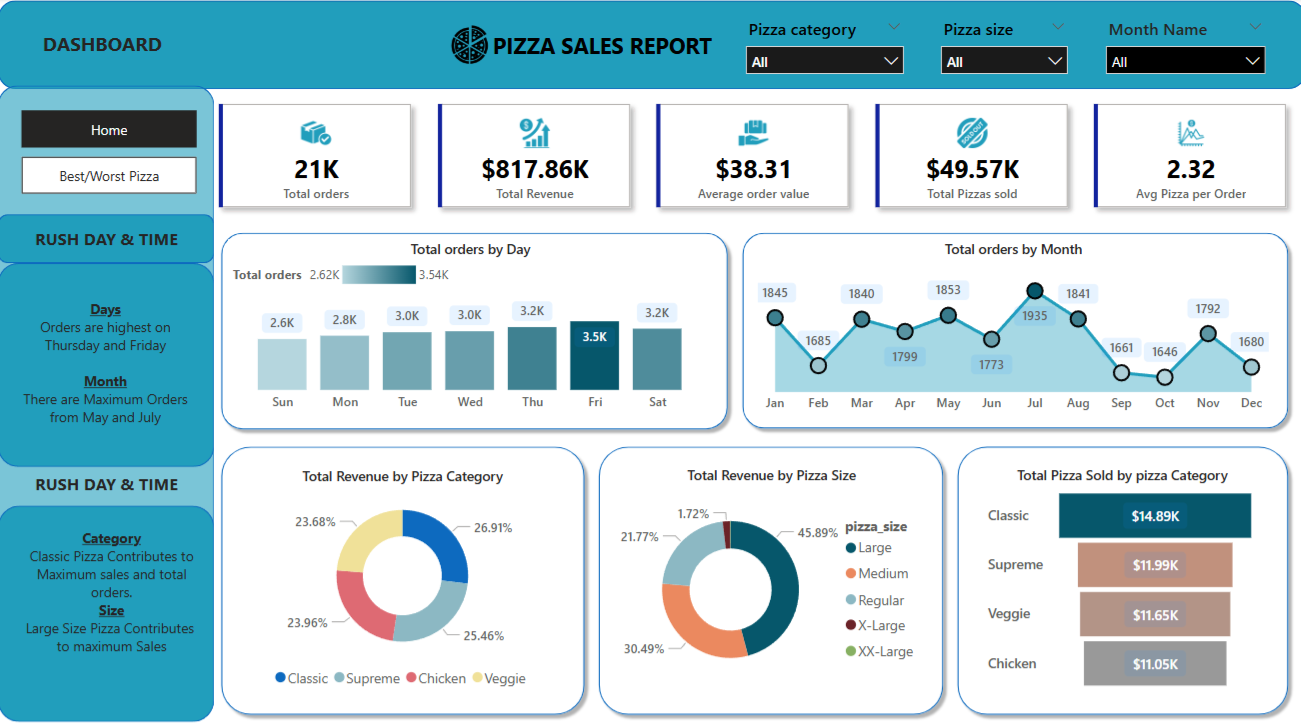

Layout of this report page (visuals, bound fields, positions):
{"tool":"powerbi","page":{"name":"Home","canvas":[1280,720],"ordinal":0},"visuals":[{"type":"cardVisual","fields":{"Data":["_Measure table.Total orders","_Measure table.Total Revenue","_Measure table.Average order value","_Measure table.Total Pizzas sold","_Measure table.Avg Pizza per Order"]},"box":[199.3,86.8,1081,135.7],"z":0},{"type":"shape","box":[0,2.9,1279.7,86.6],"z":1000},{"type":"shape","box":[0,85.6,211.6,618.8],"z":2000},{"type":"shape","box":[212.1,222.2,509.3,206.3],"z":3000},{"type":"columnChart","title":"Total orders by Day ","fields":{"Category":["Calendar_Table.Day Name"],"Y":["_Measure table.Total orders"]},"box":[225.1,236.6,474.7,177.5],"z":4000},{"type":"textbox","box":[479,27.4,242.4,39],"z":5000},{"type":"image","box":[424.2,21.6,75,47.6],"z":6000},{"type":"textbox","box":[39.1,26.9,150.4,37.9],"z":7000},{"type":"slicer","fields":{"Values":["pizza_sales.pizza_category"]},"box":[721.4,13,174.6,73.6],"z":8000},{"type":"slicer","fields":{"Values":["pizza_sales.pizza_size"]},"box":[912.5,13,144.3,73.6],"z":9000},{"type":"slicer","fields":{"Values":["Calendar_Table.Month Name"]},"box":[1073.4,13,176,73.6],"z":10000},{"type":"shape","box":[721.5,222.6,547.8,205.4],"z":11000},{"type":"lineChart","title":"Total orders by Month ","fields":{"Category":["Calendar_Table.Month Name"],"Y":["_Measure table.Total orders"]},"box":[738.6,236,509.9,178.5],"z":12000},{"type":"shape","box":[211.6,431.7,369.3,276.4],"z":13000},{"type":"shape","box":[580.8,431.7,351,276.4],"z":14000},{"type":"shape","box":[931.8,431.7,337.5,276.4],"z":15000},{"type":"donutChart","title":"Total Revenue by Pizza Category","fields":{"Category":["pizza_sales.pizza_category"],"Y":["_Measure table.Total Revenue"]},"box":[233.7,458.8,324.6,225.1],"z":16000},{"type":"donutChart","title":"Total Revenue by Pizza Size","fields":{"Y":["_Measure table.Total Revenue"],"Category":["pizza_sales.pizza_size"]},"box":[600.2,457.4,313.1,225.1],"z":17000},{"type":"funnel","title":" Total Pizza Sold by pizza Category","fields":{"Category":["pizza_sales.pizza_category"],"Y":["_Measure table.Total Pizzas sold"]},"box":[963.8,457.4,272.7,225.1],"z":18000},{"type":"shape","box":[0,211.6,211.6,47.7],"z":19000},{"type":"shape","box":[0,259.2,211.6,199.3],"z":20000},{"type":"shape","box":[0,496.5,211.6,211.6],"z":21000},{"type":"textbox","box":[23.2,218.9,166.3,35.5],"z":22000},{"type":"textbox","box":[23.2,458.6,166.3,37.9],"z":23000},{"type":"textbox","box":[11,272.7,188.3,194.4],"z":24000},{"type":"textbox","box":[11,496.5,200.5,207.9],"z":25000},{"type":"pageNavigator","box":[23.2,110.1,171.2,36.7],"z":26000},{"type":"pageNavigator","box":[23.2,155.3,171.2,36.7],"z":27000}]}

Visuals, with their boxes in screenshot pixels (x1, y1, x2, y2), scaled from the page's 1280x720 canvas onto the 1301x726 screenshot:
cardVisual - _Measure table.Total orders x _Measure table.Total Revenue: [203,88,1300,224]
shape: [0,3,1300,90]
shape: [0,86,215,710]
shape: [216,224,733,432]
"Total orders by Day " columnChart: [229,239,711,418]
textbox: [487,28,733,67]
image: [431,22,507,70]
textbox: [40,27,193,65]
slicer - pizza_sales.pizza_category: [733,13,911,87]
slicer - pizza_sales.pizza_size: [927,13,1074,87]
slicer - Calendar_Table.Month Name: [1091,13,1270,87]
shape: [733,224,1290,432]
"Total orders by Month " lineChart: [751,238,1269,418]
shape: [215,435,590,714]
shape: [590,435,947,714]
shape: [947,435,1290,714]
"Total Revenue by Pizza Category" donutChart: [238,463,567,690]
"Total Revenue by Pizza Size" donutChart: [610,461,928,688]
" Total Pizza Sold by pizza Category" funnel: [980,461,1257,688]
shape: [0,213,215,261]
shape: [0,261,215,462]
shape: [0,501,215,714]
textbox: [24,221,193,257]
textbox: [24,462,193,501]
textbox: [11,275,203,471]
textbox: [11,501,215,710]
pageNavigator: [24,111,198,148]
pageNavigator: [24,157,198,194]
